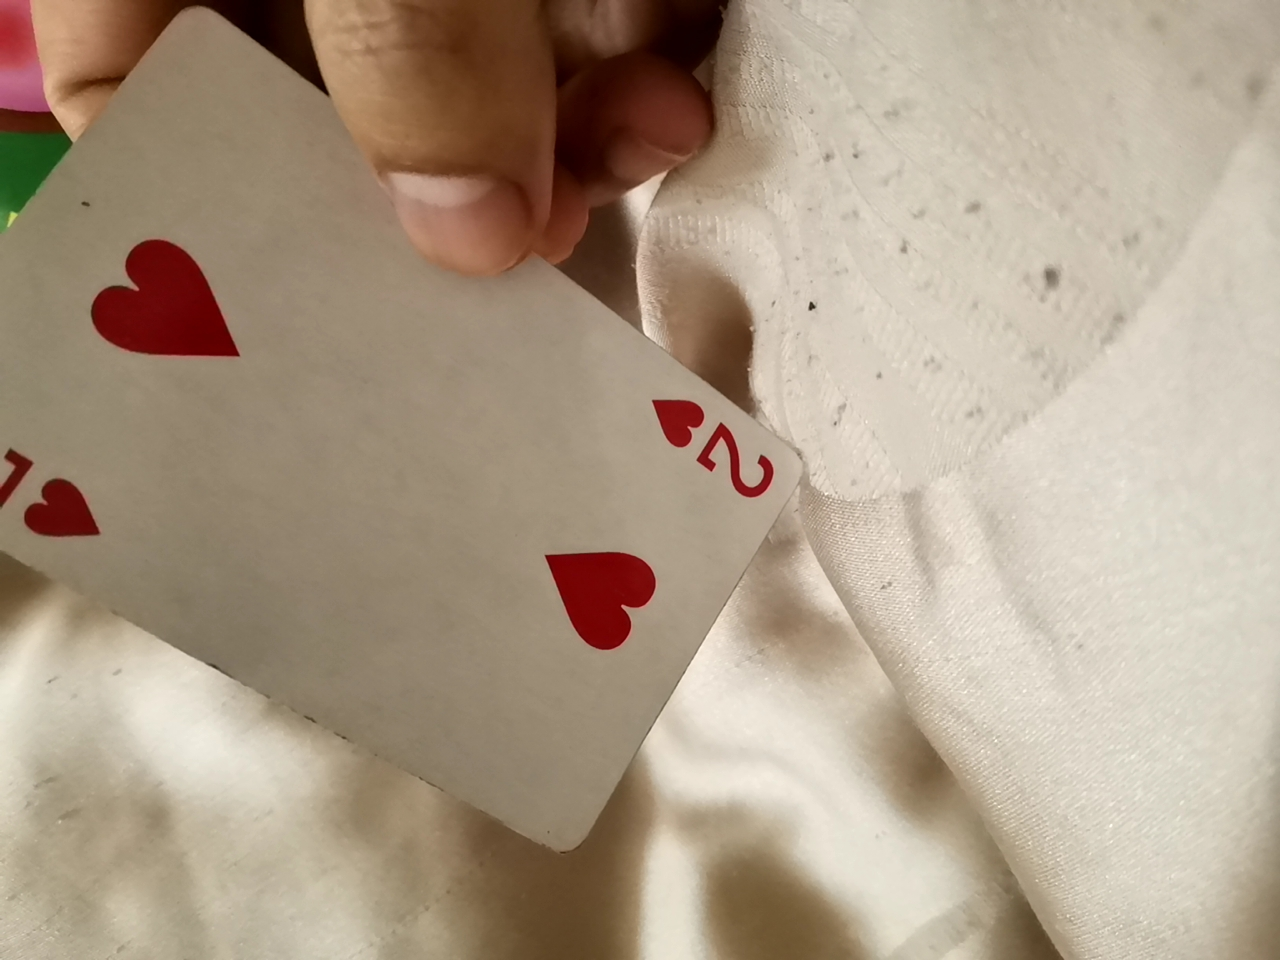hx 2: (7, 37, 838, 882)
